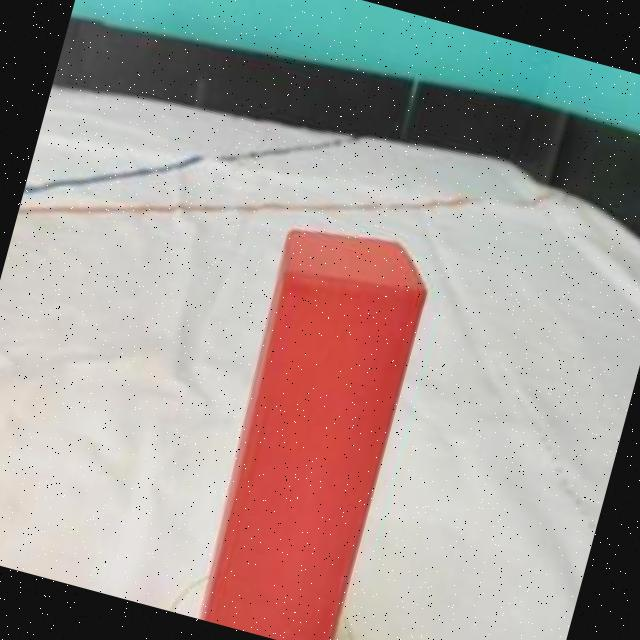redbox: (185, 211, 440, 640)
